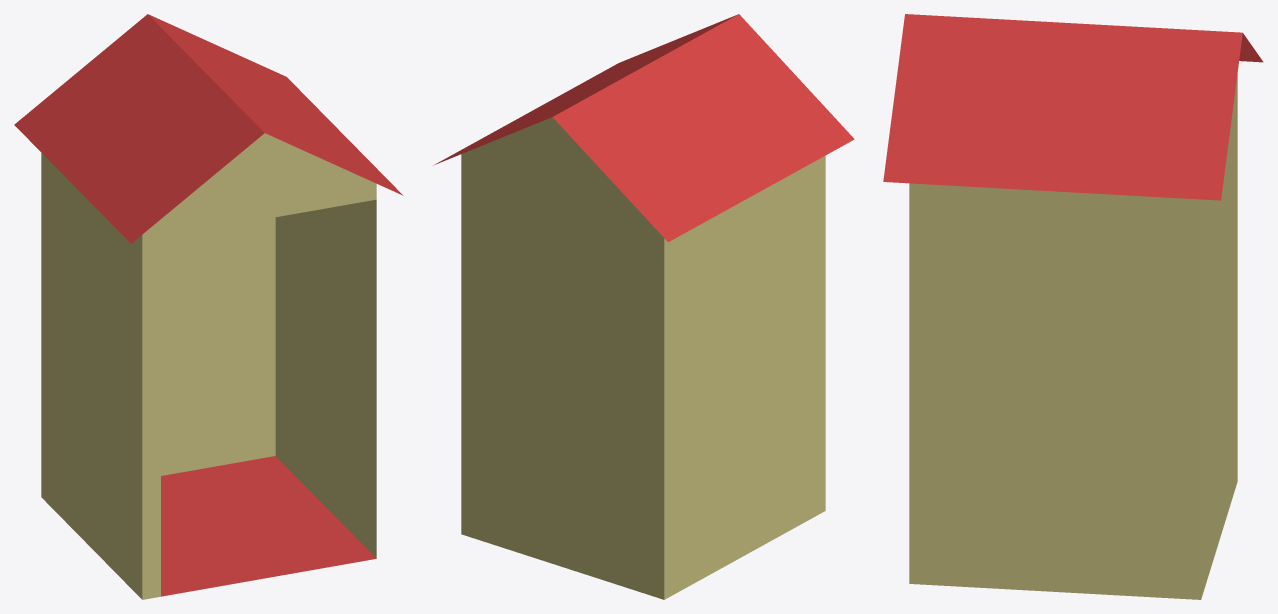
3 renders of one model, left to right at view 1: azimuth 30°, elevation 25°; view 2: azimuth 150°, elevation 25°; view 3: azimuth 270°, elevation 25°, orthographic. The views are drawn at different scales.
Size of the model in its own units: 8.01 by 8.21 by 12.1.
